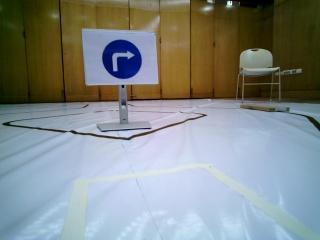right: (84, 30, 161, 85)
